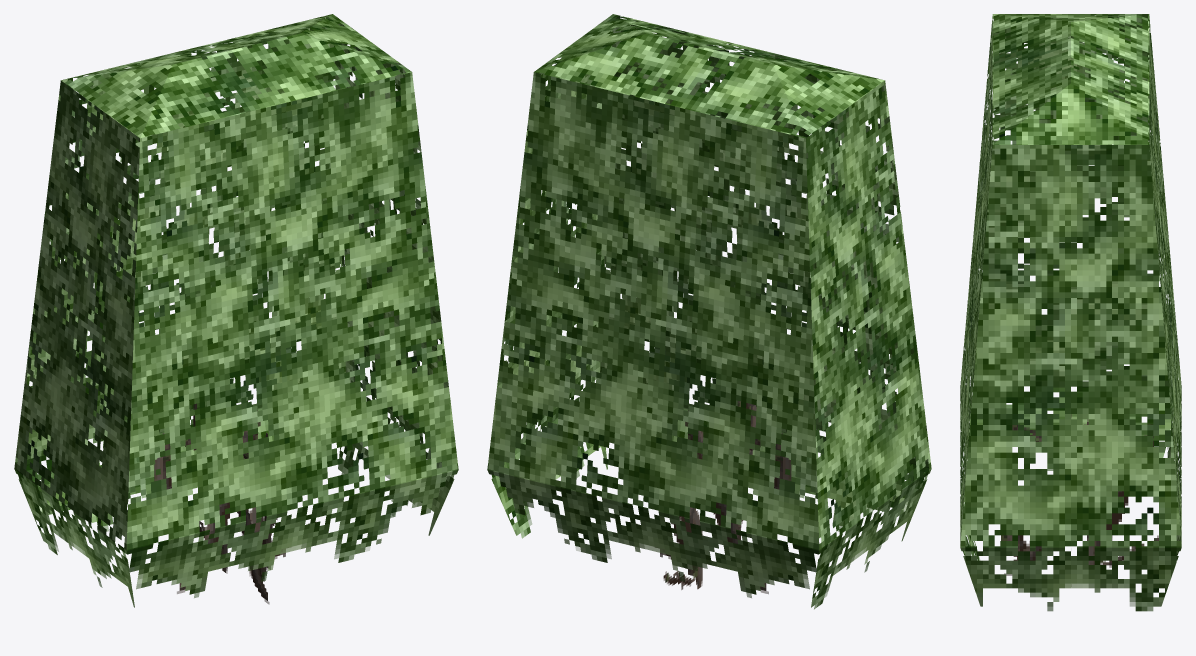
File: bush_tall_half_single_roots_summer.glb
The picture shows the model from 3 angles, left to right: view 1: azimuth 30°, elevation 25°; view 2: azimuth 150°, elevation 25°; view 3: azimuth 270°, elevation 25°; orthographic projection.
Visible parts, largest first — view 1: bush_tall_half_single_roots_summer; view 2: bush_tall_half_single_roots_summer; view 3: bush_tall_half_single_roots_summer.
Boxes of the visible parts, bbox=[...] form: bush_tall_half_single_roots_summer: bbox=[14, 14, 458, 607]; bush_tall_half_single_roots_summer: bbox=[487, 14, 931, 609]; bush_tall_half_single_roots_summer: bbox=[960, 14, 1181, 611].
Bounding box in the file's own units: 1.23 × 1.88 × 0.7191.
Materials: 2 (2 with a texture image).
